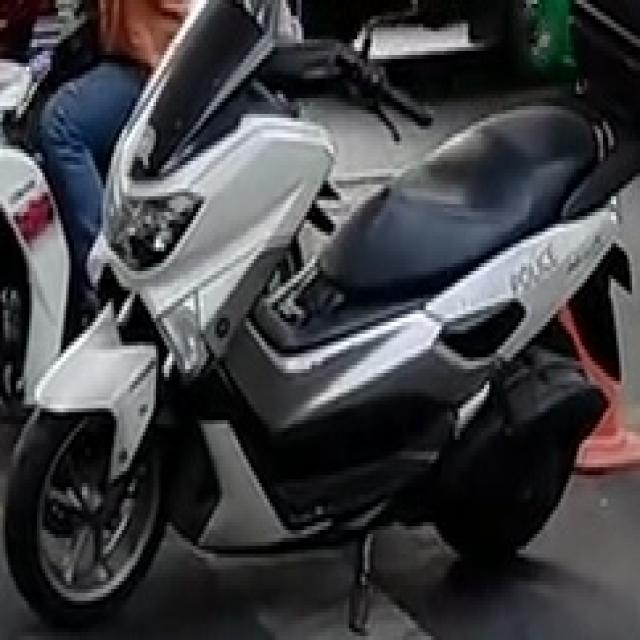door: (0, 0, 637, 632)
tyre: (2, 400, 166, 624)
